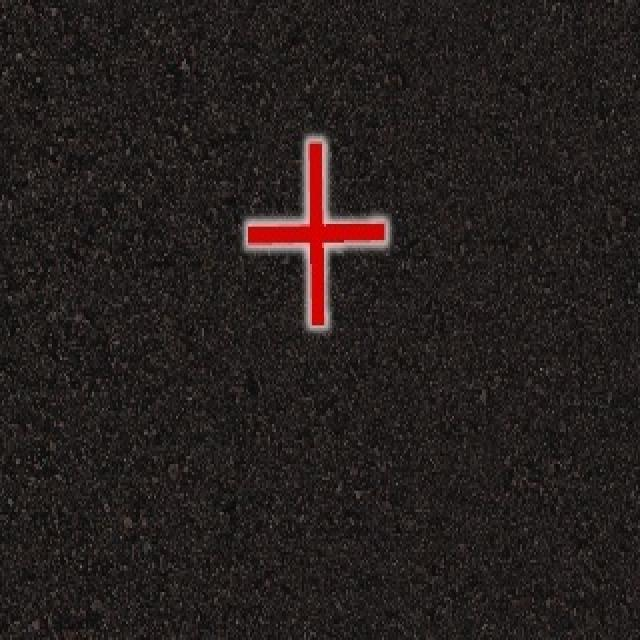x_marker: (247, 140, 385, 324)
